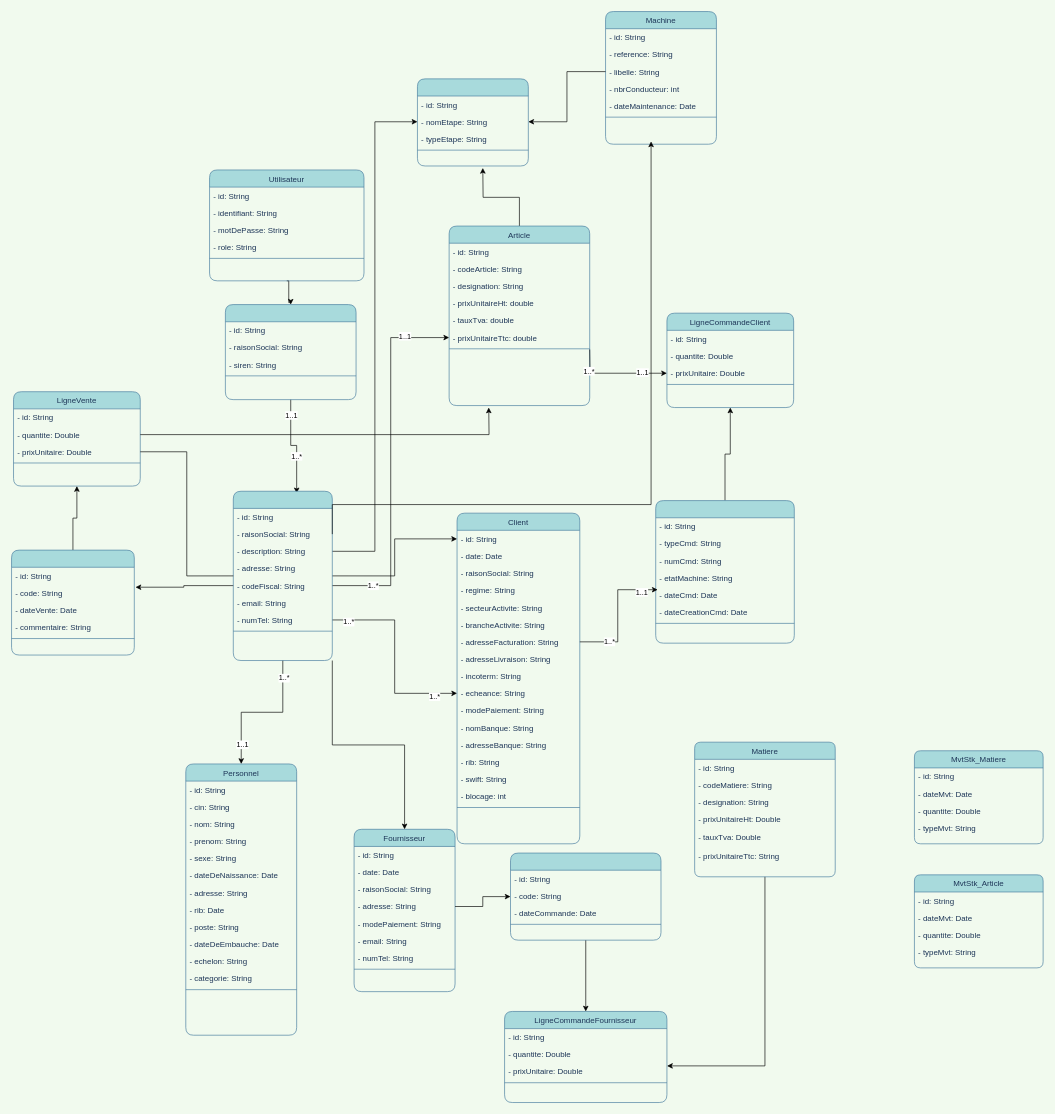
This 1055x1114 diagram has some shape labels left out. Each missing label, with the box of its shape:
CommandeClient: (655, 500, 794, 643)
CommandeFournisseur: (510, 852, 661, 940)
Comptes: (225, 304, 356, 400)
Entreprise: (233, 491, 332, 661)
EtapeProduction: (417, 78, 528, 166)
Ventes: (11, 549, 134, 655)
